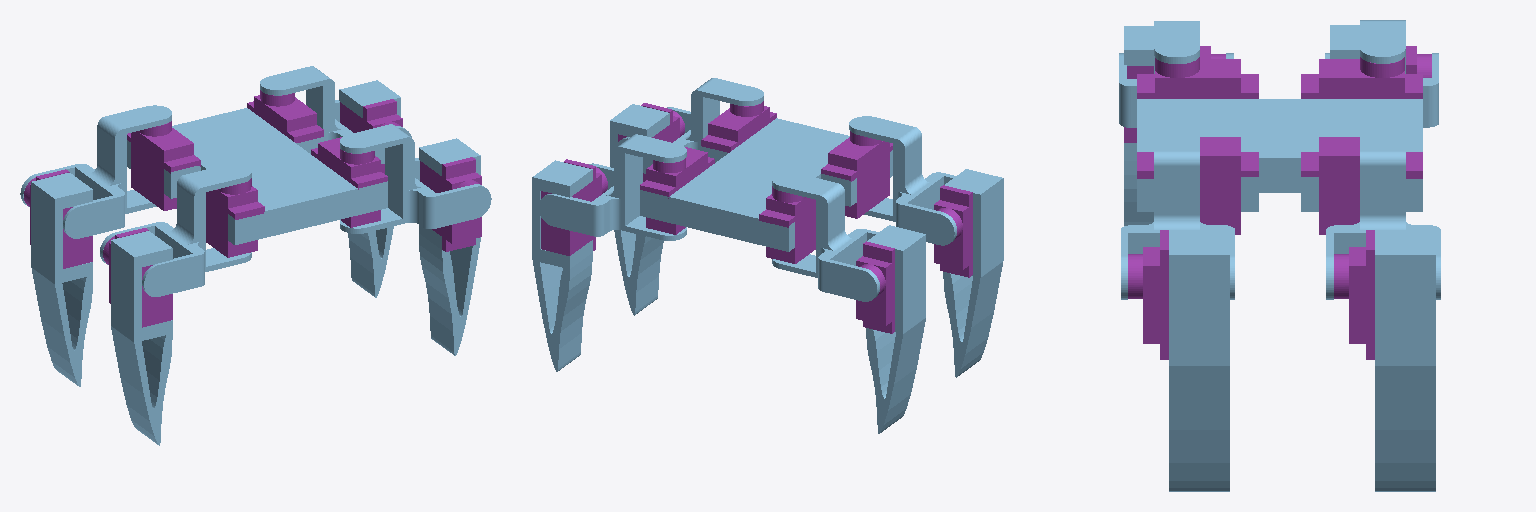
The robot description file, URDF, robot "quadruped":
<?xml version="1.0"?>
<robot name="quadruped">
    <!-- ================================================================
       BASE
       ================================================================ -->
    <link name="base_link">
        <inertial>
            <origin xyz="0 0 0" rpy="0 0 0" />
            <mass value="0.5" />
            <inertia
                ixx="0.001"
                ixy="0"
                ixz="0"
                iyy="0.001"
                iyz="0"
                izz="0.001" />
        </inertial>
        <visual>
            <origin xyz="0 0 0" rpy="0 0 0" />
            <geometry>
                <mesh filename="meshes/base_body.stl" scale="1 1 1" />
            </geometry>
            <material name="light_blue">
                <color rgba="0.615686 0.811765 0.929412 1" />
            </material>
        </visual>
        <!-- FIX: aligned origin with inertial z=0.005 -->
        <collision>
            <origin xyz="0 0 0.005" rpy="0 0 0" />
            <geometry>
                <box size="0.08 0.08 0.03" />
            </geometry>
        </collision>
    </link>

    <!-- ================================================================
       FRONT-LEFT LEG  (FL)
       ================================================================ -->
    <link name="shoulder_FL">
        <inertial>
            <origin xyz="0 0 0" rpy="0 0 0" />
            <mass value="0.05" />
            <inertia
                ixx="0.00002"
                ixy="0"
                ixz="0"
                iyy="0.00002"
                iyz="0"
                izz="0.00002" />
        </inertial>
        <visual>
            <origin xyz="-1.68455e-18 0.0118 -0.0116051" rpy="0 0 0" />
            <geometry>
                <mesh filename="meshes/servo.stl" scale="1 1 1" />
            </geometry>
            <material name="purple">
                <color rgba="0.682353 0.333333 0.737255 1" />
            </material>
        </visual>

    </link>
    <joint name="hip_ab_FL" type="fixed">
        <origin xyz="0.0182 0.02155 0.005" rpy="0 0 -1.5708" />
        <parent link="base_link" />
        <child link="shoulder_FL" />
    </joint>

    <link name="femur_FL">
        <inertial>
            <origin xyz="0 0 -0.02" rpy="0 0 0" />
            <mass value="0.02" />
            <inertia
                ixx="0.00001"
                ixy="0"
                ixz="0"
                iyy="0.00001"
                iyz="0"
                izz="0.00001" />
        </inertial>
        <visual>
            <origin xyz="-0.00018 0.019 -0.03" rpy="0 0 0" />
            <geometry>
                <mesh filename="meshes/femur.stl" scale="1 1 1" />
            </geometry>
            <material name="light_blue">
                <color rgba="0.615686 0.811765 0.929412 1" />
            </material>
        </visual>
    </link>
    <joint name="hip_FL" type="revolute">
        <origin xyz="-0.00535 0.0059 0.0151949" rpy="0 0 0" />
        <axis xyz="0 0 -1" />
        <parent link="shoulder_FL" />
        <child link="femur_FL" />
        <limit effort="10" velocity="5" lower="-0.67" upper="0.67" />
        <dynamics damping="0.1" friction="0.0" />
    </joint>

    <link name="lower_leg_FL">
        <inertial>
            <origin xyz="0 0 -0.015" rpy="0 0 0" />
            <mass value="0.01" />
            <inertia
                ixx="0.000005"
                ixy="0"
                ixz="0"
                iyy="0.000005"
                iyz="0"
                izz="0.000005" />
        </inertial>
        <visual>
            <origin xyz="0.00535 0.0059 -0.0267" rpy="0 0 0" />
            <geometry>
                <mesh filename="meshes/servo.stl" scale="1 1 1" />
            </geometry>
            <material name="purple">
                <color rgba="0.682353 0.333333 0.737255 1" />
            </material>
        </visual>
    </link>
    <joint name="knee_FL" type="revolute">
        <origin xyz="0.01282 0.038 -0.024" rpy="0 1.5708 0" />
        <axis xyz="0 0 1" />
        <parent link="femur_FL" />
        <child link="lower_leg_FL" />
        <limit effort="10" velocity="5" lower="-0.7" upper="1.5708" />
        <dynamics damping="0.1" friction="0.0" />
    </joint>

    <link name="foot_FL">
        <inertial>
            <origin xyz="0 0 -0.015" rpy="0 0 0" />
            <mass value="0.01" />
            <inertia
                ixx="0.000005"
                ixy="0"
                ixz="0"
                iyy="0.000005"
                iyz="0"
                izz="0.000005" />
        </inertial>
        <visual>
            <origin xyz="-0.0043 0.008 -0.01625" rpy="0 0 0" />
            <geometry>
                <mesh filename="meshes/leg.stl" scale="1 1 1" />
            </geometry>
            <material name="light_blue">
                <color rgba="0.615686 0.811765 0.929412 1" />
            </material>
        </visual>
        <collision>
            <origin xyz="-0.006 0 -0.02195" rpy="0 0 0" />
            <geometry>
                <cylinder radius="0.007" length="0.07" />
            </geometry>
        </collision>


    </link>
    <joint name="ankle_FL" type="fixed">
        <origin xyz="0.00535 0.0059 -0.01875" rpy="-1.5708 0 1.5708" />
        <parent link="lower_leg_FL" />
        <child link="foot_FL" />
    </joint>

    <!-- ================================================================
       FRONT-RIGHT LEG  (FR)
       ================================================================ -->
    <link name="shoulder_FR">
        <inertial>
            <origin xyz="0 0 0" rpy="0 0 0" />
            <mass value="0.05" />
            <inertia
                ixx="0.00002"
                ixy="0"
                ixz="0"
                iyy="0.00002"
                iyz="0"
                izz="0.00002" />
        </inertial>
        <visual>
            <origin xyz="-1.58546e-18 0 -0.0116051" rpy="0 0 0" />
            <geometry>
                <mesh filename="meshes/servo.stl" scale="1 1 1" />
            </geometry>
            <material name="purple">
                <color rgba="0.682353 0.333333 0.737255 1" />
            </material>
        </visual>
    </link>
    <joint name="hip_ab_FR" type="fixed">
        <origin xyz="-0.0182 0.02155 0.005" rpy="0 0 -1.5708" />
        <parent link="base_link" />
        <child link="shoulder_FR" />
    </joint>

    <link name="femur_FR">
        <inertial>
            <origin xyz="0 0 -0.02" rpy="0 0 0" />
            <mass value="0.02" />
            <inertia
                ixx="0.00001"
                ixy="0"
                ixz="0"
                iyy="0.00001"
                iyz="0"
                izz="0.00001" />
        </inertial>
        <visual>
            <origin xyz="-0.00018 0.019 -0.03" rpy="0 0 0" />
            <geometry>
                <mesh filename="meshes/femur.stl" scale="1 1 1" />
            </geometry>
            <material name="light_blue">
                <color rgba="0.615686 0.811765 0.929412 1" />
            </material>
        </visual>
    </link>
    <joint name="hip_FR" type="revolute">
        <origin xyz="-0.00535 -0.0059 0.0151949" rpy="0 0 3.14159" />
        <axis xyz="0 0 -1" />
        <parent link="shoulder_FR" />
        <child link="femur_FR" />
        <limit effort="10" velocity="5" lower="-0.67" upper="0.67" />
        <dynamics damping="0.1" friction="0.0" />
    </joint>

    <link name="lower_leg_FR">
        <inertial>
            <origin xyz="0 0 -0.02" rpy="0 0 0" />
            <mass value="0.03" />
            <inertia
                ixx="0.00001"
                ixy="0"
                ixz="0"
                iyy="0.00001"
                iyz="0"
                izz="0.00001" />
        </inertial>
        <visual>
            <origin xyz="0.00535 0.0059 -0.0267" rpy="0 0 0" />
            <geometry>
                <mesh filename="meshes/servo.stl" scale="1 1 1" />
            </geometry>
            <material name="purple">
                <color rgba="0.682353 0.333333 0.737255 1" />
            </material>
        </visual>

    </link>
    <joint name="knee_FR" type="revolute">
        <origin xyz="0.01282 0.038 -0.024" rpy="0 1.5708 0" />
        <axis xyz="0 0 1" />
        <parent link="femur_FR" />
        <child link="lower_leg_FR" />
        <limit effort="10" velocity="5" lower="-0.7" upper="1.5708" />
        <dynamics damping="0.1" friction="0.0" />
    </joint>

    <link name="foot_FR">
        <inertial>
            <mass value="0.01" />
            <origin xyz="0 0 -0.015" rpy="0 0 0" />
            <inertia ixx="0.000005" ixy="0" ixz="0"
                iyy="0.000005" iyz="0" izz="0.000005" />
        </inertial>
        <visual>
            <origin xyz="-0.0043 0.008 -0.01625" rpy="0 0 0" />
            <geometry>
                <mesh filename="meshes/leg.stl" scale="1 1 1" />
            </geometry>
            <material name="light_blue">
                <color rgba="0.615686 0.811765 0.929412 1" />
            </material>
        </visual>
        <collision>
            <origin xyz="-0.006 0 -0.02195" rpy="0 0 0" />
            <geometry>
                <cylinder radius="0.007" length="0.07" />
            </geometry>
        </collision>

    </link>
    <joint name="ankle_FR" type="fixed">
        <origin xyz="0.00535 0.0059 -0.01875" rpy="-1.5708 0 1.5708" />
        <parent link="lower_leg_FR" />
        <child link="foot_FR" />
    </joint>

    <!-- ================================================================
       REAR-RIGHT LEG  (RR)
       ================================================================ -->
    <link name="shoulder_RR">
        <inertial>
            <mass value="0.0529214" />
            <origin xyz="-0.000347141 -0.0059 0.000849676" rpy="0 0 0" />
            <inertia ixx="3.26201e-06" ixy="0" ixz="2.24959e-07"
                iyy="5.18225e-06" iyz="0" izz="3.12845e-06" />
        </inertial>
        <visual>
            <origin xyz="-1.58546e-18 0 -0.0116051" rpy="0 0 0" />
            <geometry>
                <mesh filename="meshes/servo.stl" scale="1 1 1" />
            </geometry>
            <material name="purple">
                <color rgba="0.682353 0.333333 0.737255 1" />
            </material>
        </visual>

    </link>
    <joint name="hip_ab_RR" type="fixed">
        <origin xyz="0.0182 -0.02155 0.005" rpy="0 0 1.5708" />
        <parent link="base_link" />
        <child link="shoulder_RR" />
    </joint>

    <link name="femur_RR">
        <inertial>
            <mass value="0.02" />
            <origin xyz="-0.00018 0.019 -0.03" rpy="0 0 0" />
            <inertia ixx="0.00001" ixy="0" ixz="0"
                iyy="0.00001" iyz="0" izz="0.00001" />
        </inertial>
        <visual>
            <origin xyz="-0.00018 0.019 -0.03" rpy="0 0 0" />
            <geometry>
                <mesh filename="meshes/femur.stl" scale="1 1 1" />
            </geometry>
            <material name="light_blue">
                <color rgba="0.615686 0.811765 0.929412 1" />
            </material>
        </visual>

    </link>
    <joint name="hip_RR" type="revolute">
        <origin xyz="-0.00535 -0.0059 0.0151949" rpy="0 0 3.14159" />
        <axis xyz="0 0 -1" />
        <parent link="shoulder_RR" />
        <child link="femur_RR" />
        <limit effort="10" velocity="5" lower="-0.67" upper="0.67" />
        <dynamics damping="0.1" friction="0.0" />
    </joint>

    <link name="lower_leg_RR">
        <inertial>
            <mass value="0.03" />
            <origin xyz="0 0 -0.02" rpy="0 0 0" />
            <inertia ixx="0.00001" ixy="0" ixz="0"
                iyy="0.00001" iyz="0" izz="0.00001" />
        </inertial>
        <visual>
            <origin xyz="0.00535 0.0059 -0.0267" rpy="0 0 0" />
            <geometry>
                <mesh filename="meshes/servo.stl" scale="1 1 1" />
            </geometry>
            <material name="purple">
                <color rgba="0.682353 0.333333 0.737255 1" />
            </material>
        </visual>

    </link>
    <joint name="knee_RR" type="revolute">
        <origin xyz="0.01282 0.038 -0.024" rpy="0 1.5708 0" />
        <axis xyz="0 0 1" />
        <parent link="femur_RR" />
        <child link="lower_leg_RR" />
        <limit effort="10" velocity="5" lower="-0.7" upper="1.5708" />
        <dynamics damping="0.1" friction="0.0" />
    </joint>

    <link name="foot_RR">
        <inertial>
            <mass value="0.01" />
            <origin xyz="0 0 -0.015" rpy="0 0 0" />
            <inertia ixx="0.000005" ixy="0" ixz="0"
                iyy="0.000005" iyz="0" izz="0.000005" />
        </inertial>
        <visual>
            <origin xyz="-0.0043 0.008 -0.01625" rpy="0 0 0" />
            <geometry>
                <mesh filename="meshes/leg.stl" scale="1 1 1" />
            </geometry>
            <material name="light_blue">
                <color rgba="0.615686 0.811765 0.929412 1" />
            </material>
        </visual>
        <collision>
            <origin xyz="-0.006 0 -0.02195" rpy="0 0 0" />
            <geometry>
                <cylinder radius="0.007" length="0.07" />
            </geometry>
        </collision>
    </link>
    <joint name="ankle_RR" type="fixed">
        <origin xyz="0.00535 0.0059 -0.01875" rpy="-1.5708 0 1.5708" />
        <parent link="lower_leg_RR" />
        <child link="foot_RR" />
    </joint>

    <!-- ================================================================
       REAR-LEFT LEG  (RL)
       ================================================================ -->
    <link name="shoulder_RL">
        <inertial>
            <mass value="0.0529214" />
            <origin xyz="-0.000347141 0.0059 0.000849676" rpy="0 0 0" />
            <inertia ixx="3.26201e-06" ixy="0" ixz="2.24959e-07"
                iyy="5.18225e-06" iyz="0" izz="3.12845e-06" />
        </inertial>
        <visual>
            <origin xyz="-1.68455e-18 0.0118 -0.0116051" rpy="0 0 0" />
            <geometry>
                <mesh filename="meshes/servo.stl" scale="1 1 1" />
            </geometry>
            <material name="purple">
                <color rgba="0.682353 0.333333 0.737255 1" />
            </material>
        </visual>
    </link>
    <joint name="hip_ab_RL" type="fixed">
        <origin xyz="-0.0182 -0.02155 0.005" rpy="0 0 1.5708" />
        <parent link="base_link" />
        <child link="shoulder_RL" />
    </joint>

    <link name="femur_RL">
        <inertial>
            <mass value="0.02" />
            <origin xyz="-0.00018 0.019 -0.03" rpy="0 0 0" />
            <inertia ixx="0.00001" ixy="0" ixz="0"
                iyy="0.00001" iyz="0" izz="0.00001" />
        </inertial>
        <visual>
            <origin xyz="-0.00018 0.019 -0.03" rpy="0 0 0" />
            <geometry>
                <mesh filename="meshes/femur.stl" scale="1 1 1" />
            </geometry>
            <material name="light_blue">
                <color rgba="0.615686 0.811765 0.929412 1" />
            </material>
        </visual>
    </link>
    <joint name="hip_RL" type="revolute">
        <origin xyz="-0.00535 0.0059 0.0150949" rpy="0 0 0" />
        <axis xyz="0 0 -1" />
        <parent link="shoulder_RL" />
        <child link="femur_RL" />
        <limit effort="10" velocity="5" lower="-0.67" upper="0.67" />
        <dynamics damping="0.1" friction="0.0" />
    </joint>

    <link name="lower_leg_RL">
        <inertial>
            <mass value="0.03" />
            <origin xyz="0 0 -0.02" rpy="0 0 0" />
            <inertia ixx="0.00001" ixy="0" ixz="0"
                iyy="0.00001" iyz="0" izz="0.00001" />
        </inertial>
        <visual>
            <origin xyz="0.00535 0.0059 -0.0267" rpy="0 0 0" />
            <geometry>
                <mesh filename="meshes/servo.stl" scale="1 1 1" />
            </geometry>
            <material name="purple">
                <color rgba="0.682353 0.333333 0.737255 1" />
            </material>
        </visual>
    </link>
    <joint name="knee_RL" type="revolute">
        <origin xyz="0.01282 0.038 -0.024" rpy="0 1.5708 0" />
        <axis xyz="0 0 1" />
        <parent link="femur_RL" />
        <child link="lower_leg_RL" />
        <limit effort="10" velocity="5" lower="-0.7" upper="1.5708" />
        <dynamics damping="0.1" friction="0.0" />
    </joint>

    <link name="foot_RL">
        <inertial>
            <mass value="0.01" />
            <origin xyz="0 0 -0.015" rpy="0 0 0" />
            <inertia ixx="0.000005" ixy="0" ixz="0"
                iyy="0.000005" iyz="0" izz="0.000005" />
        </inertial>
        <visual>
            <origin xyz="-0.0043 0.008 -0.01625" rpy="0 0 0" />
            <geometry>
                <mesh filename="meshes/leg.stl" scale="1 1 1" />
            </geometry>
            <material name="light_blue">
                <color rgba="0.615686 0.811765 0.929412 1" />
            </material>
        </visual>
        <collision>
            <origin xyz="-0.006 0 -0.02195" rpy="0 0 0" />
            <geometry>
                <cylinder radius="0.007" length="0.07" />
            </geometry>
        </collision>
    </link>
    <joint name="ankle_RL" type="fixed">
        <origin xyz="0.00535 0.0059 -0.01875" rpy="-1.5708 0 1.5708" />
        <parent link="lower_leg_RL" />
        <child link="foot_RL" />
    </joint>

</robot>

--- Facts derived from the render (not from the file) ---
3 views of the same robot in one strip: view 1: azimuth 30°, elevation 25°; view 2: azimuth 150°, elevation 25°; view 3: azimuth 270°, elevation 25° (orthographic).
Robot: quadruped — 17 links, 16 joints (8 revolute, 8 fixed); root link base_link; default pose: all joints at 0.
Visible links, largest first — view 1: base_link, foot_FR, foot_RL, femur_RR, femur_RL, femur_FR, foot_RR, shoulder_FR, foot_FL, femur_FL, shoulder_RL, lower_leg_RR (+5 smaller); view 2: base_link, foot_FR, foot_RL, foot_FL, femur_FL, femur_FR, femur_RL, foot_RR, shoulder_RL, femur_RR, shoulder_FR, lower_leg_RL (+5 smaller); view 3: foot_FL, foot_RR, base_link, femur_FL, femur_RR, shoulder_FL, shoulder_RR, shoulder_FR, shoulder_RL, lower_leg_FL, lower_leg_RR, femur_RL (+5 smaller).
Link boxes in pixels (box(x1,y1,x2,y2)): base_link: box(127, 108, 387, 244); foot_FR: box(31, 173, 92, 386); foot_RL: box(111, 231, 172, 445); femur_RR: box(340, 124, 491, 233); femur_RL: box(100, 164, 251, 296); femur_FR: box(20, 105, 171, 238); foot_RR: box(419, 138, 480, 355); shoulder_FR: box(127, 121, 200, 210); foot_FL: box(339, 80, 400, 297); femur_FL: box(260, 66, 411, 163); shoulder_RL: box(206, 178, 264, 257); lower_leg_RR: box(420, 157, 481, 251); base_link: box(640, 118, 892, 251); foot_FR: box(866, 225, 925, 433); foot_RL: box(943, 169, 1003, 377); foot_FL: box(532, 160, 592, 371); femur_FL: box(538, 134, 686, 240); femur_FR: box(772, 172, 879, 301); femur_RL: box(849, 116, 956, 245); foot_RR: box(610, 104, 669, 315); shoulder_RL: box(821, 131, 892, 218); femur_RR: box(616, 78, 763, 173); shoulder_FR: box(759, 186, 815, 263); lower_leg_RL: box(934, 185, 972, 277); foot_FL: box(1375, 231, 1435, 491); foot_RR: box(1169, 231, 1229, 491); base_link: box(1137, 99, 1422, 211); femur_FL: box(1326, 116, 1440, 299); femur_RR: box(1121, 116, 1234, 299); shoulder_FL: box(1301, 137, 1422, 234); shoulder_RR: box(1137, 137, 1258, 234); shoulder_FR: box(1301, 57, 1422, 98); shoulder_RL: box(1137, 57, 1258, 98); lower_leg_FL: box(1334, 230, 1374, 359); lower_leg_RR: box(1128, 230, 1168, 359); femur_RL: box(1119, 21, 1233, 127).
Bounding box of the posed robot: 0.1424 × 0.0842 × 0.0885 m (x, y, z).
Meshes: 4 distinct files referenced, 17 mesh visuals loaded (4 binary STL).
